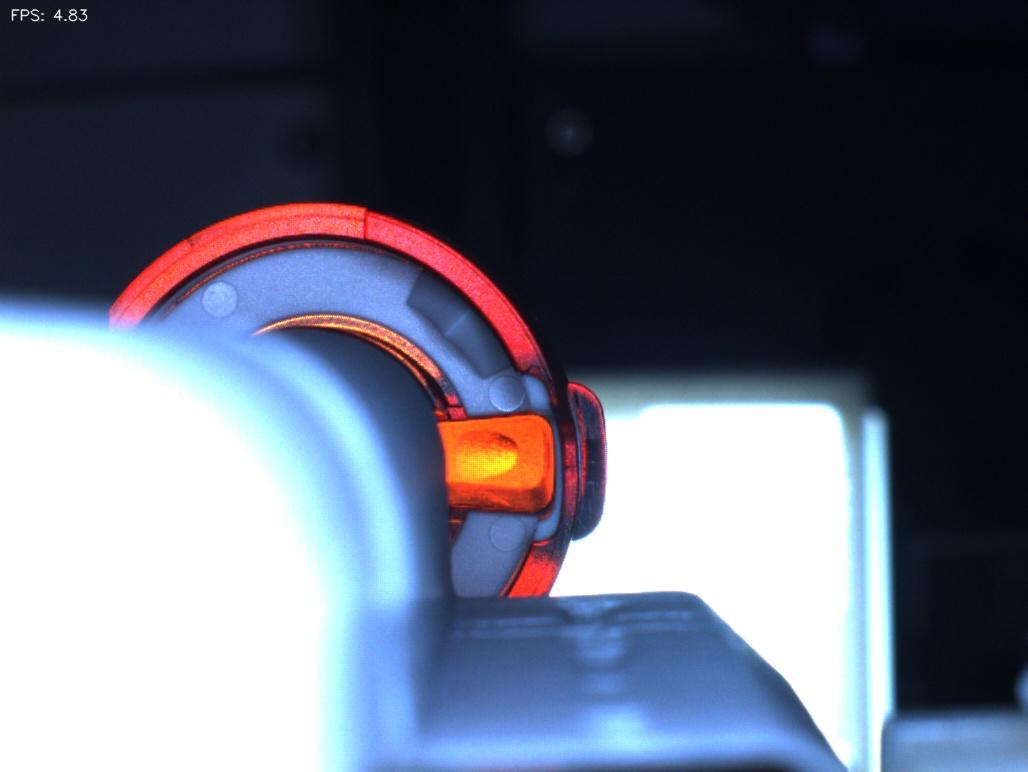Retassure: (446, 424, 532, 494)
